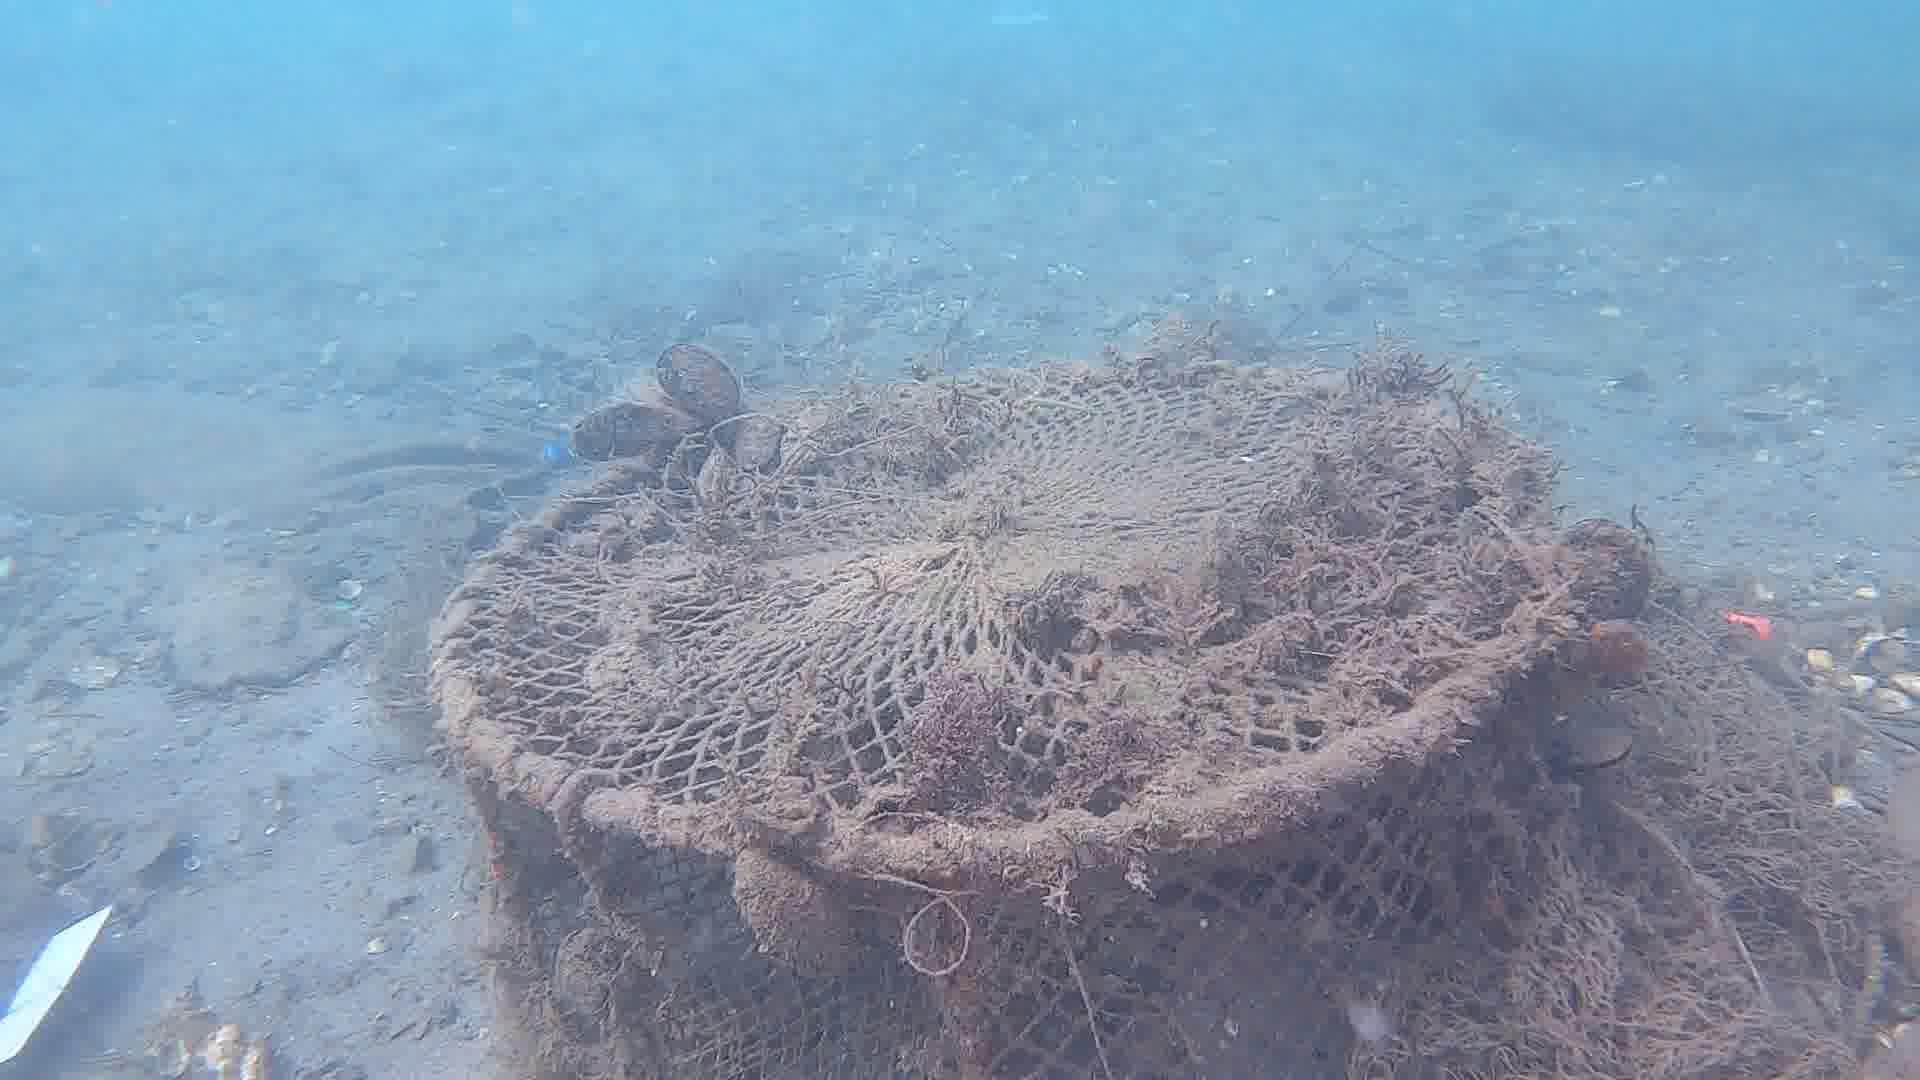circular fish trap: (419, 347, 1604, 1080)
